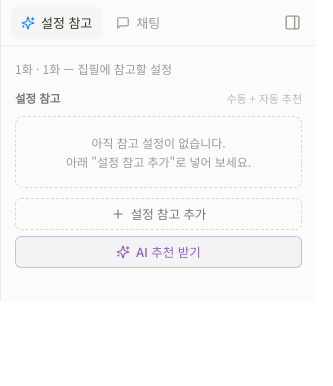
Test case: MemoryPanel · AI 추천 받기 › type=entity/timeline_state는 링크 배지로, type=vector_match는 추천 배지로 표시한다
Click the button "AI 추천 받기" at (158, 252), box [15, 236, 302, 268]
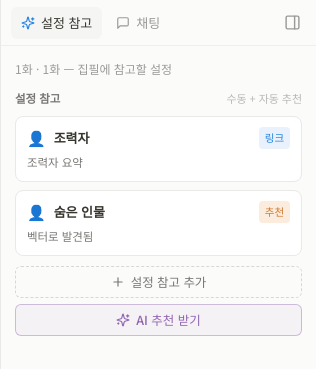
expect the text "조력자" is shown: met, box [54, 128, 90, 147]
expect the text "링크" is shown: met, box [259, 127, 290, 149]
expect the text "추천" is shown: met, box [259, 201, 290, 223]
